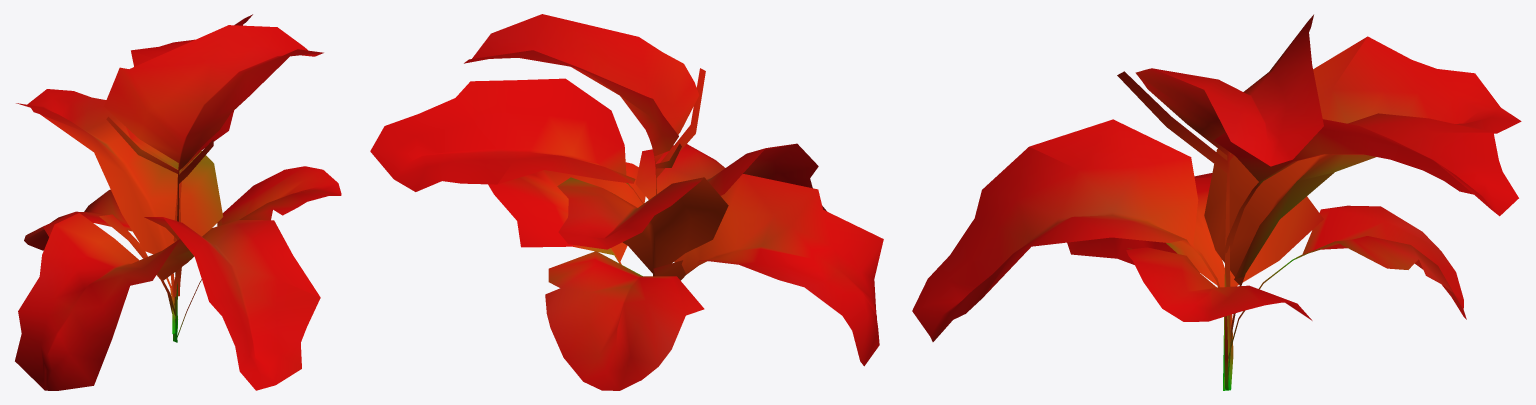
File: Areca Palm_LOD2_Var1_shFjC.fbx
The picture shows the model from 3 angles, left to right: view 1: azimuth 30°, elevation 25°; view 2: azimuth 150°, elevation 25°; view 3: azimuth 270°, elevation 25°; orthographic projection. The views are drawn at different scales.
Parts seen in each view (by area): view 1: _7988_Var1_LOD2; view 2: _7988_Var1_LOD2; view 3: _7988_Var1_LOD2.
Boxes of the visible parts, box(x1,y1,x2,y2) form: _7988_Var1_LOD2: box(15, 14, 341, 390); _7988_Var1_LOD2: box(370, 14, 883, 390); _7988_Var1_LOD2: box(912, 14, 1521, 390).
Size of the model in its own units: 179 by 140 by 202.
